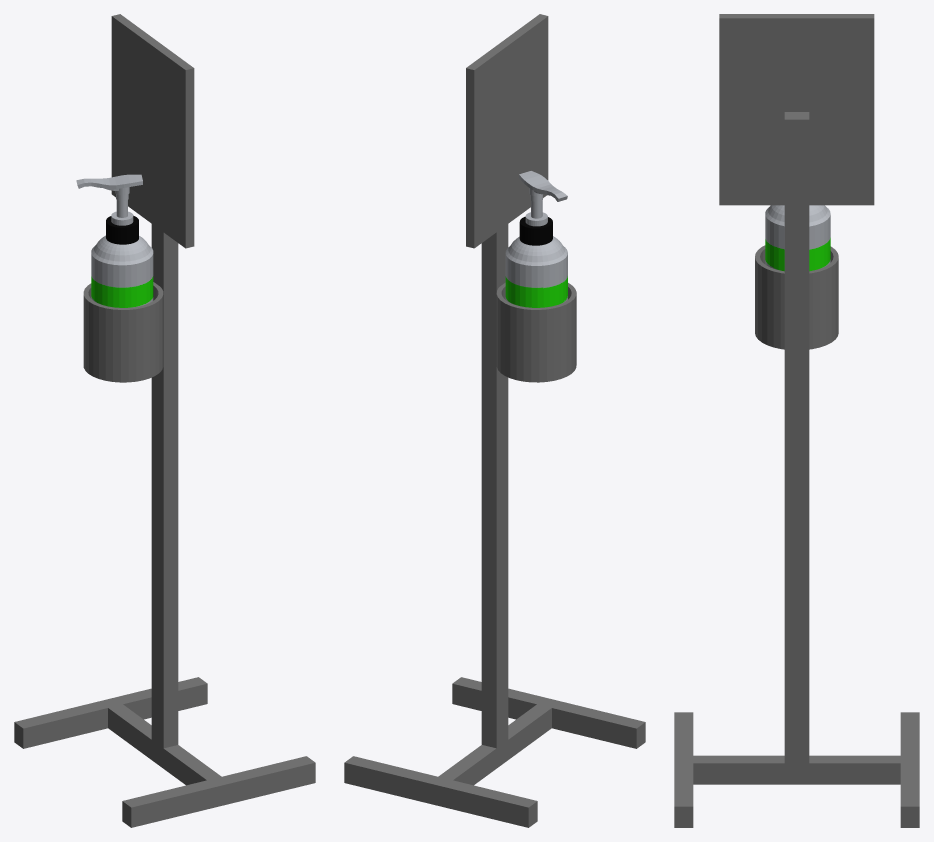
File: DisinfectantHolder.fbx
3 renders of one model, left to right at view 1: azimuth 30°, elevation 25°; view 2: azimuth 150°, elevation 25°; view 3: azimuth 270°, elevation 25°, orthographic. The views are drawn at different scales.
Visible parts, largest first — view 1: Disinfectant Holder; view 2: Disinfectant Holder; view 3: Disinfectant Holder.
Part boxes in pixels (left/top/right/bottom): Disinfectant Holder: left=14, top=14, right=315, bottom=827; Disinfectant Holder: left=344, top=14, right=645, bottom=827; Disinfectant Holder: left=674, top=14, right=919, bottom=827.
Size of the model in its own units: 288 by 1079 by 316.
